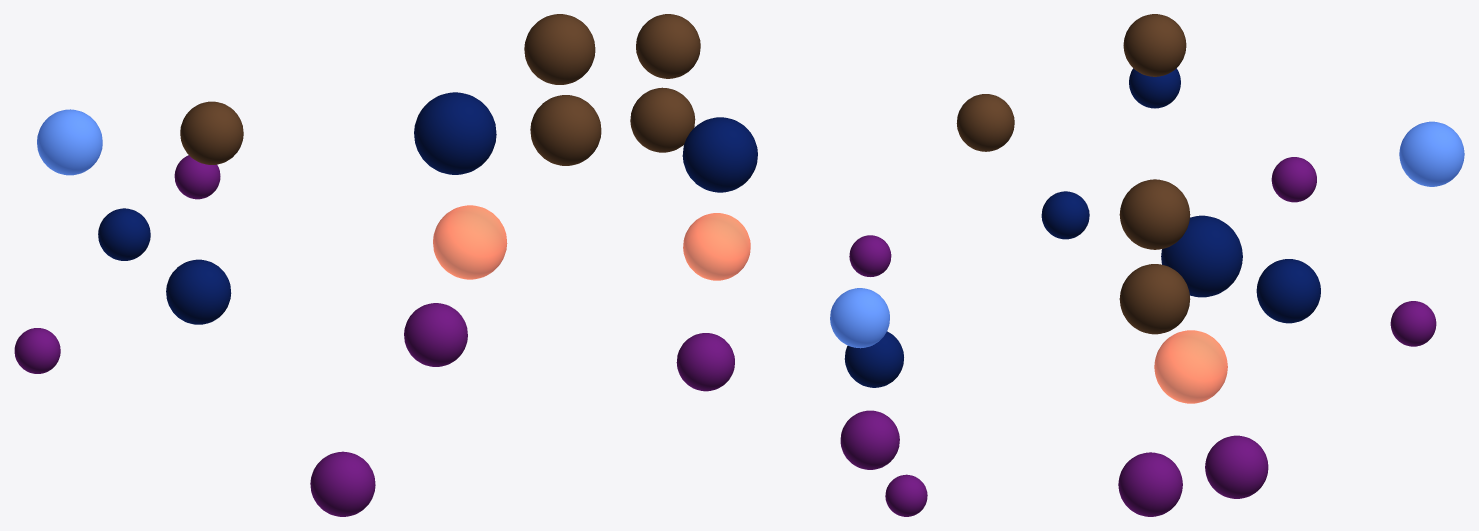
Rendered from planets.glb.
3 views of the same model, side by side, from view 1: azimuth 30°, elevation 25°; view 2: azimuth 150°, elevation 25°; view 3: azimuth 270°, elevation 25° (orthographic). The views are drawn at different scales.
Parts seen in each view (by area): view 1: Sphere.003, Sphere.007, Sphere.006, Sphere.009, Sphere, Sphere.004, Sphere.005, Sphere.008, Sphere.010, Sphere.011, Sphere.001, Sphere.002; view 2: Sphere.003, Sphere.007, Sphere.006, Sphere.009, Sphere, Sphere.005, Sphere.008, Sphere.010, Sphere.004, Sphere.011, Sphere.001, Sphere.002; view 3: Sphere.003, Sphere.007, Sphere.006, Sphere.009, Sphere, Sphere.005, Sphere.004, Sphere.008, Sphere.010, Sphere.001, Sphere.002, Sphere.011.
Part boxes in pixels (box(x1,y1,x2,y2)): Sphere.003: box(414, 92, 496, 174); Sphere.007: box(433, 205, 507, 279); Sphere.006: box(524, 14, 595, 84); Sphere.009: box(530, 95, 601, 165); Sphere: box(37, 109, 102, 175); Sphere.004: box(166, 259, 231, 324); Sphere.005: box(310, 451, 375, 516); Sphere.008: box(404, 303, 467, 366); Sphere.010: box(180, 101, 243, 164); Sphere.011: box(98, 208, 150, 260); Sphere.001: box(14, 328, 60, 373); Sphere.002: box(174, 155, 220, 199); Sphere.003: box(682, 117, 757, 192); Sphere.007: box(683, 213, 750, 280); Sphere.006: box(636, 14, 700, 78); Sphere.009: box(630, 87, 695, 152); Sphere: box(830, 288, 889, 348); Sphere.005: box(840, 410, 899, 469); Sphere.008: box(676, 333, 734, 391); Sphere.010: box(956, 94, 1014, 151); Sphere.004: box(844, 331, 903, 387); Sphere.011: box(1041, 191, 1089, 239); Sphere.001: box(885, 474, 927, 516); Sphere.002: box(849, 235, 891, 276); Sphere.003: box(1161, 215, 1242, 297); Sphere.007: box(1154, 330, 1227, 403); Sphere.006: box(1119, 179, 1190, 249); Sphere.009: box(1119, 264, 1190, 334); Sphere: box(1399, 121, 1464, 186); Sphere.005: box(1118, 452, 1182, 516); Sphere.004: box(1256, 259, 1320, 323); Sphere.008: box(1205, 435, 1268, 498); Sphere.010: box(1123, 14, 1186, 76); Sphere.001: box(1390, 301, 1436, 346); Sphere.002: box(1271, 157, 1316, 202); Sphere.011: box(1129, 68, 1180, 108).
Bounding box in the file's own units: 19.28 × 16.43 × 11.8.
